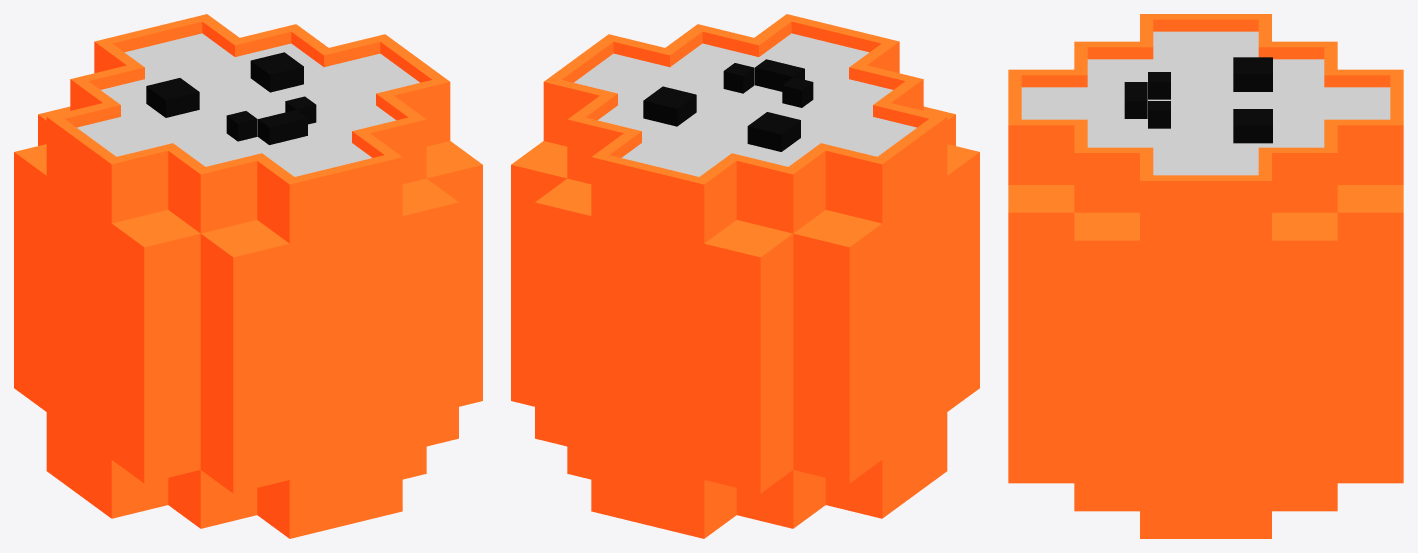
The model's file is FireEnemy.fbx.
3 views of the same model, side by side, from view 1: azimuth 30°, elevation 25°; view 2: azimuth 150°, elevation 25°; view 3: azimuth 270°, elevation 25° (orthographic).
Parts seen in each view (by area): view 1: Cube; view 2: Cube; view 3: Cube.
Part boxes in pixels (bbox=[...]): Cube: bbox=[14, 14, 482, 538]; Cube: bbox=[511, 14, 979, 538]; Cube: bbox=[1008, 14, 1403, 538].
Size of the model in its own units: 200 by 203 by 200.
